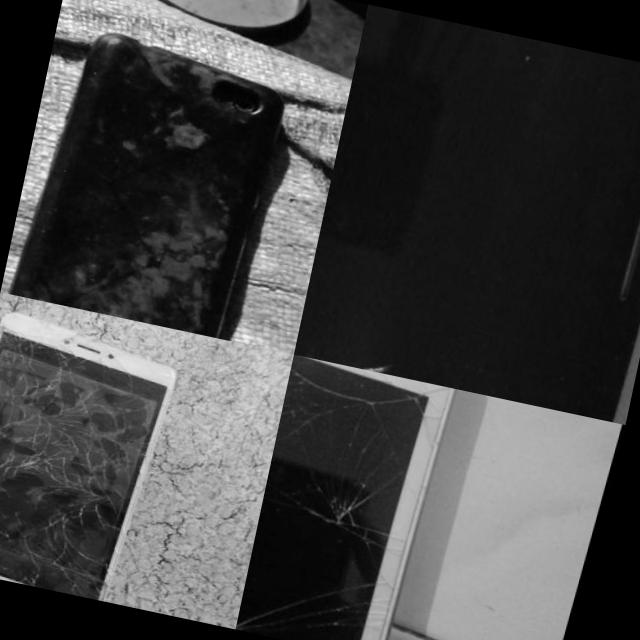scratch: (357, 341, 408, 376)
screen crack: (18, 17, 295, 341), (0, 308, 184, 601), (282, 442, 429, 560)
